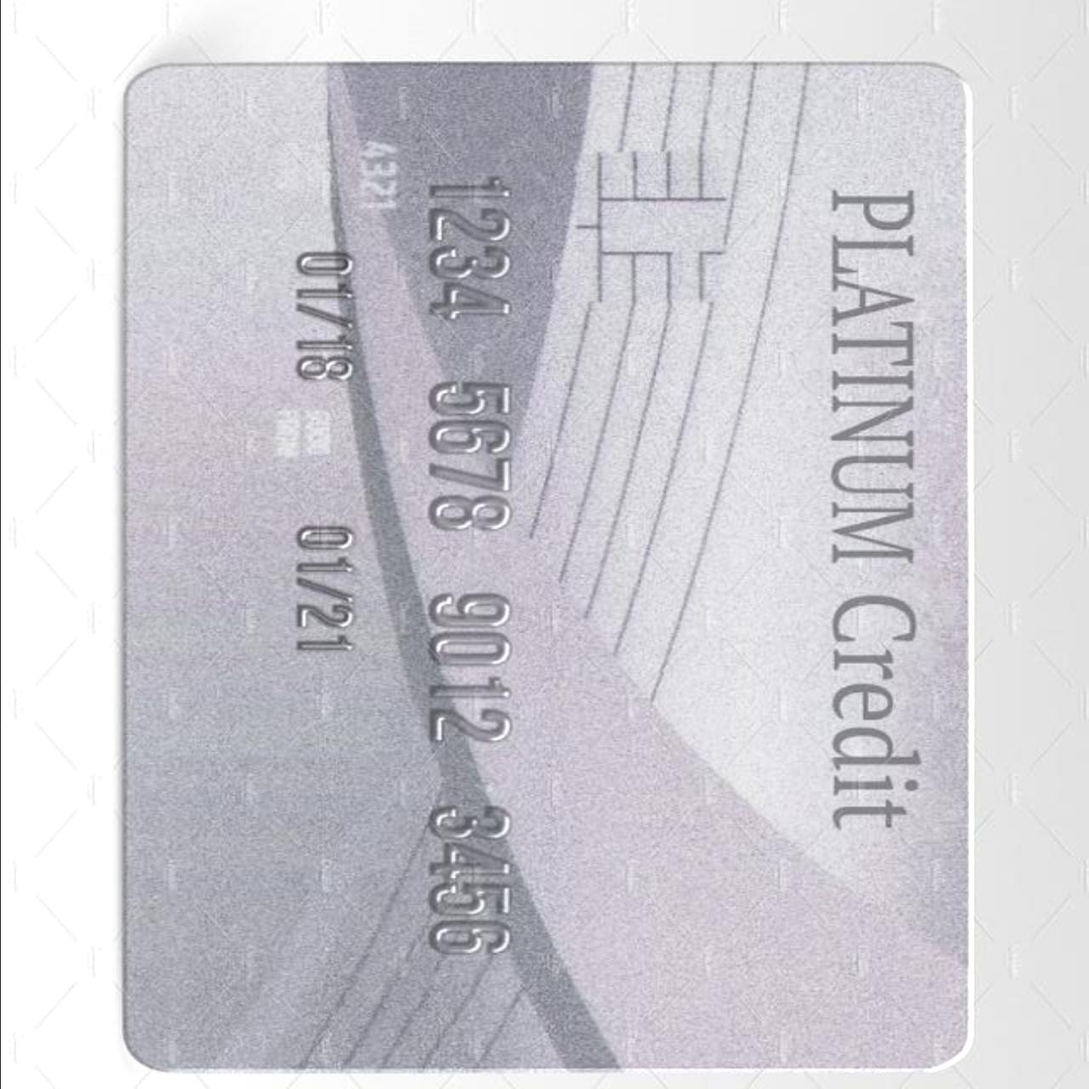credit_card: (116, 41, 994, 1079)
